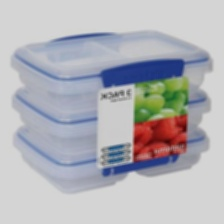plastic_box: (6, 23, 219, 115), (8, 114, 215, 199), (8, 77, 216, 155)
